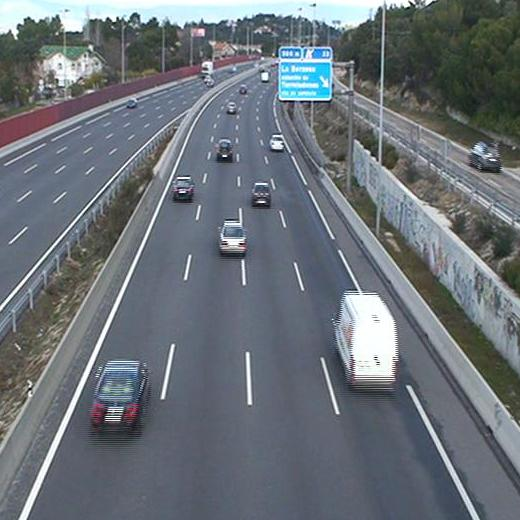car: (91, 360, 152, 433), (218, 221, 247, 253), (170, 175, 196, 200), (250, 182, 271, 205), (215, 138, 234, 160), (268, 134, 285, 150), (226, 102, 238, 115)
van: (334, 290, 397, 387)
